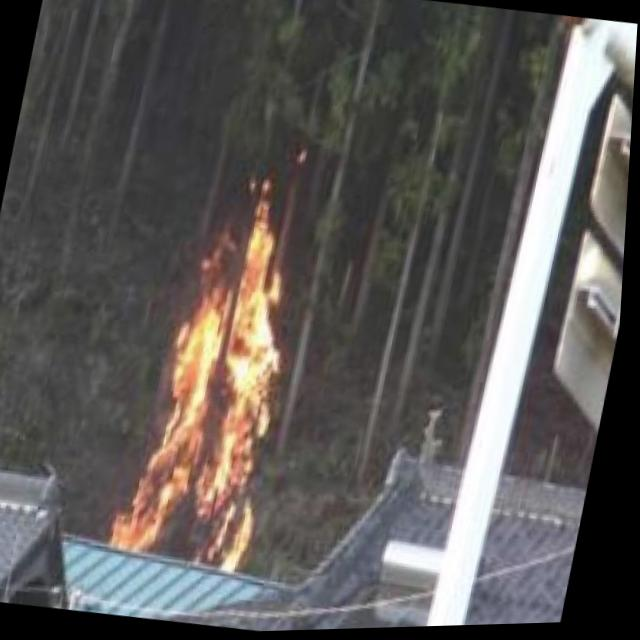Fire: (121, 170, 338, 587)
